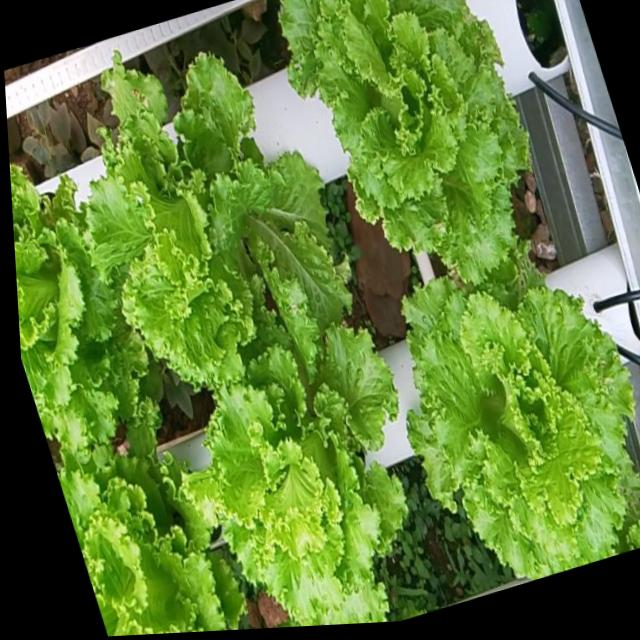Mature: (79, 55, 347, 402), (400, 271, 640, 584), (278, 0, 528, 290), (189, 321, 404, 627), (10, 167, 142, 445), (56, 450, 241, 636)
